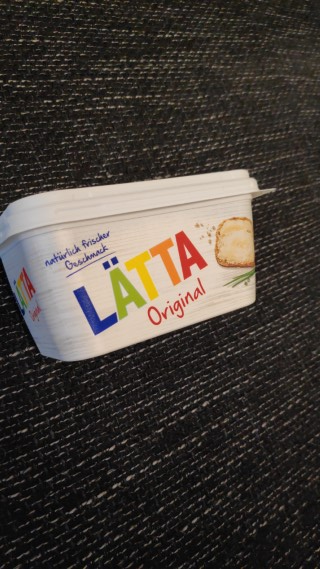laetta: (1, 166, 276, 362)
